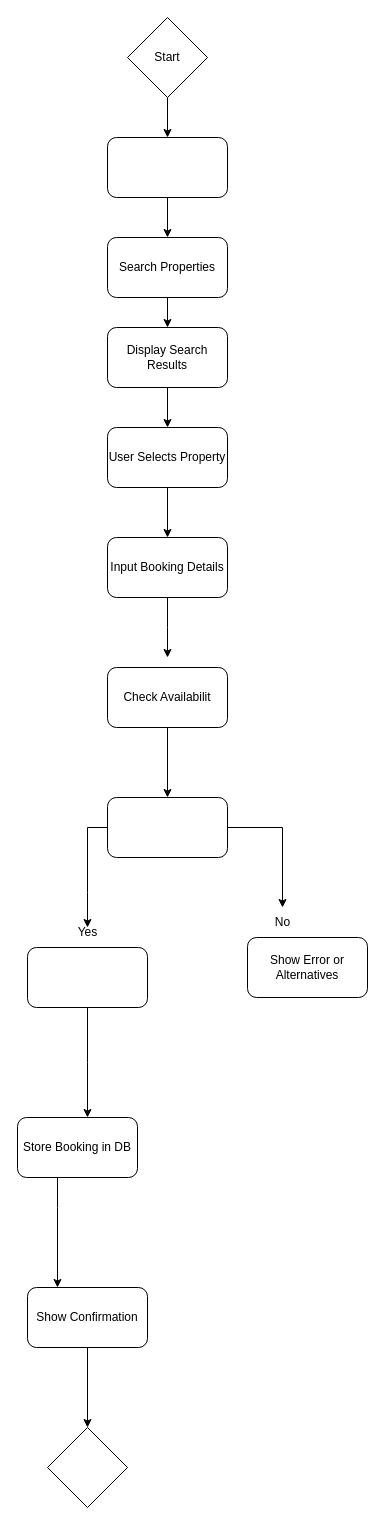
Image size: 385x1525. Some labels were removed from this diagram. Here are the shapes that lost their labels. From the top down, the centre of each, then its label:
At point 167,167: "User Logs In".
At point 167,827: "Is Available?".
At point 87,977: "Confirm Booking".
At point 87,1467: "End".
